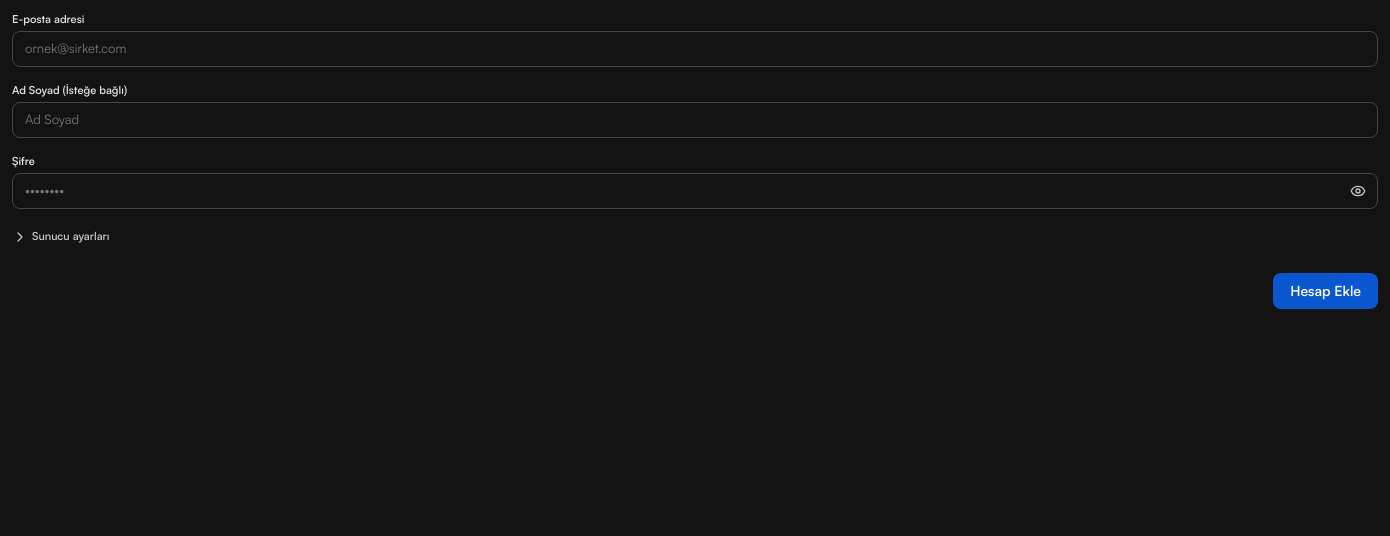
Shared Account Setup Form (Parity Fix) › 2. collapses and expands server settings on click
The width and height of the screenshot is (1390, 536).
Expected: the text "Gelen sunucu — IMAP" is not shown
Click the button "Sunucu ayarları" at x=61, y=237, box [12,225,109,249]
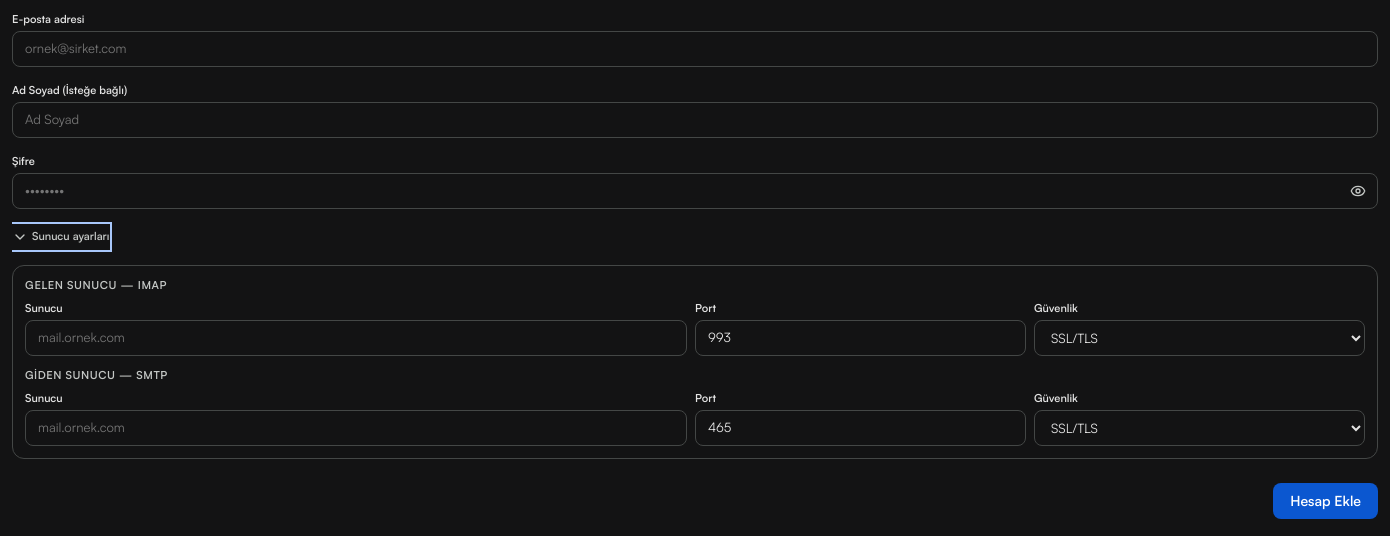
Expected: the button "Sunucu ayarları" is expanded
Expected: the heading "Gelen sunucu — IMAP" is shown, [25,278,167,292]
Click the button "Sunucu ayarları" at x=61, y=237, box [12,225,109,249]
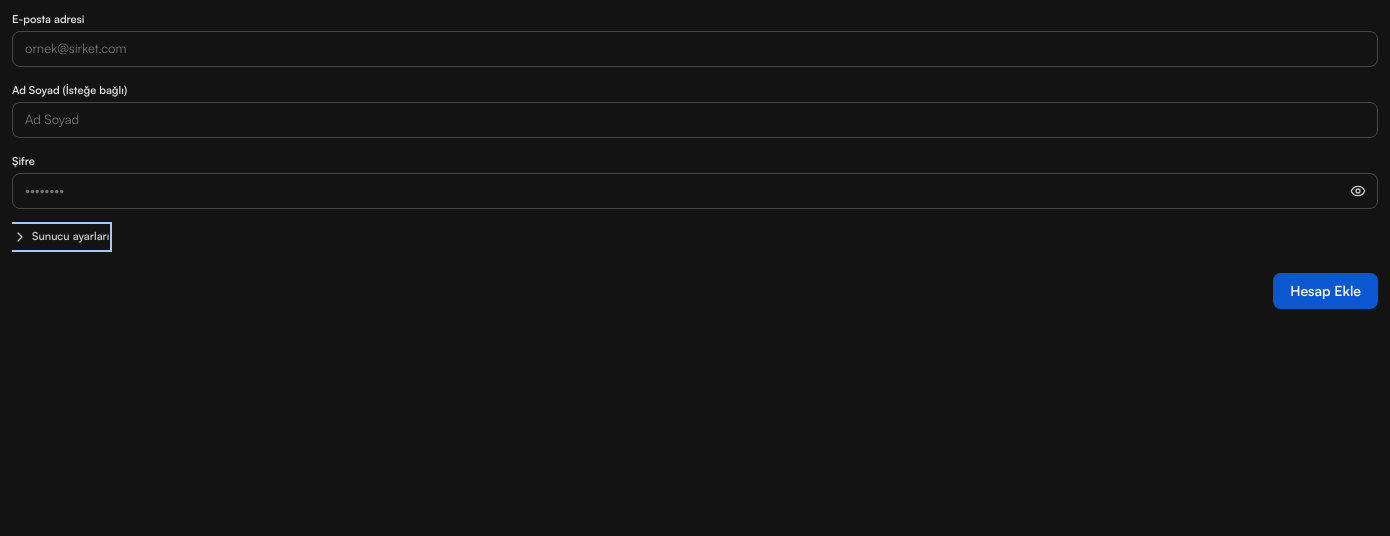
Expected: the button "Sunucu ayarları" is collapsed, [12,225,109,249]
Expected: the heading "Gelen sunucu — IMAP" is gone
